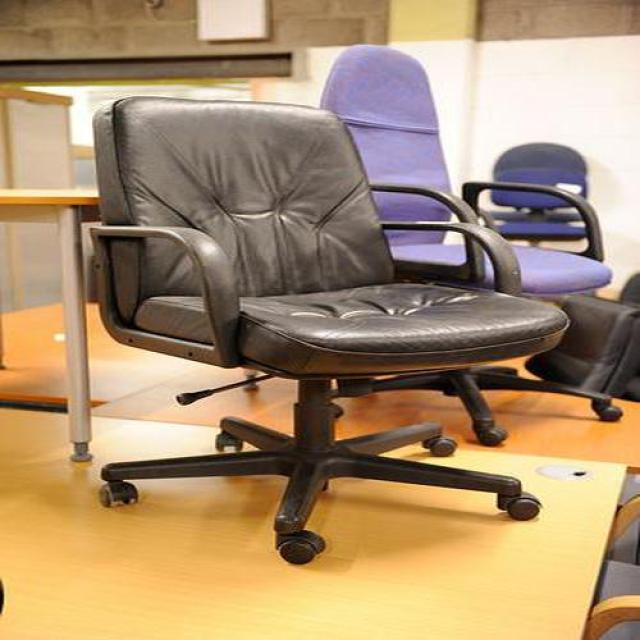swivelchair: (87, 97, 570, 567)
